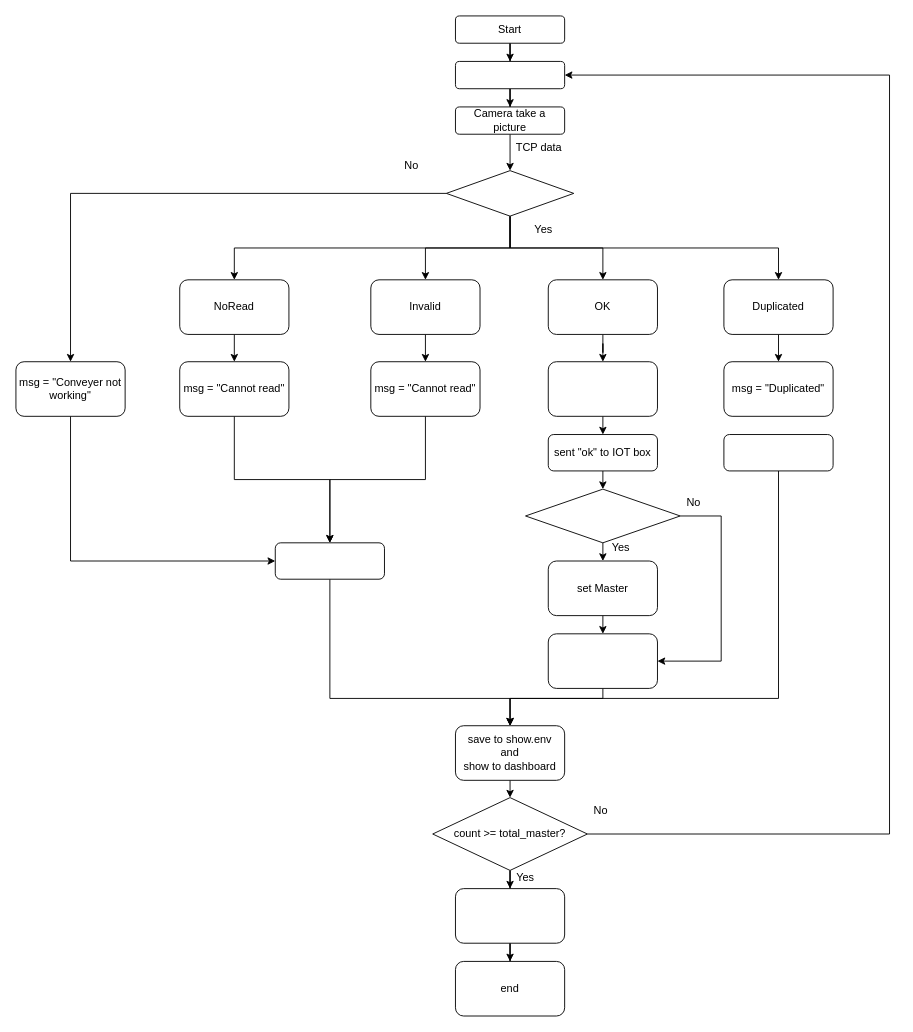
This 913x1032 diagram has some shape labels left out. Here are the shapes that lost their labels. From the top down, the centre of each, then its label:
the point at 510,75: IR sensor read data
the point at 509,193: conveyer is runing?
the point at 602,388: msg = "Read success"
the point at 778,452: sent "nm" to IOT box
the point at 602,515: count == 0?
the point at 329,560: sent "ng" to IOT box
the point at 602,660: Save to record.env
the point at 510,915: reccord to database
